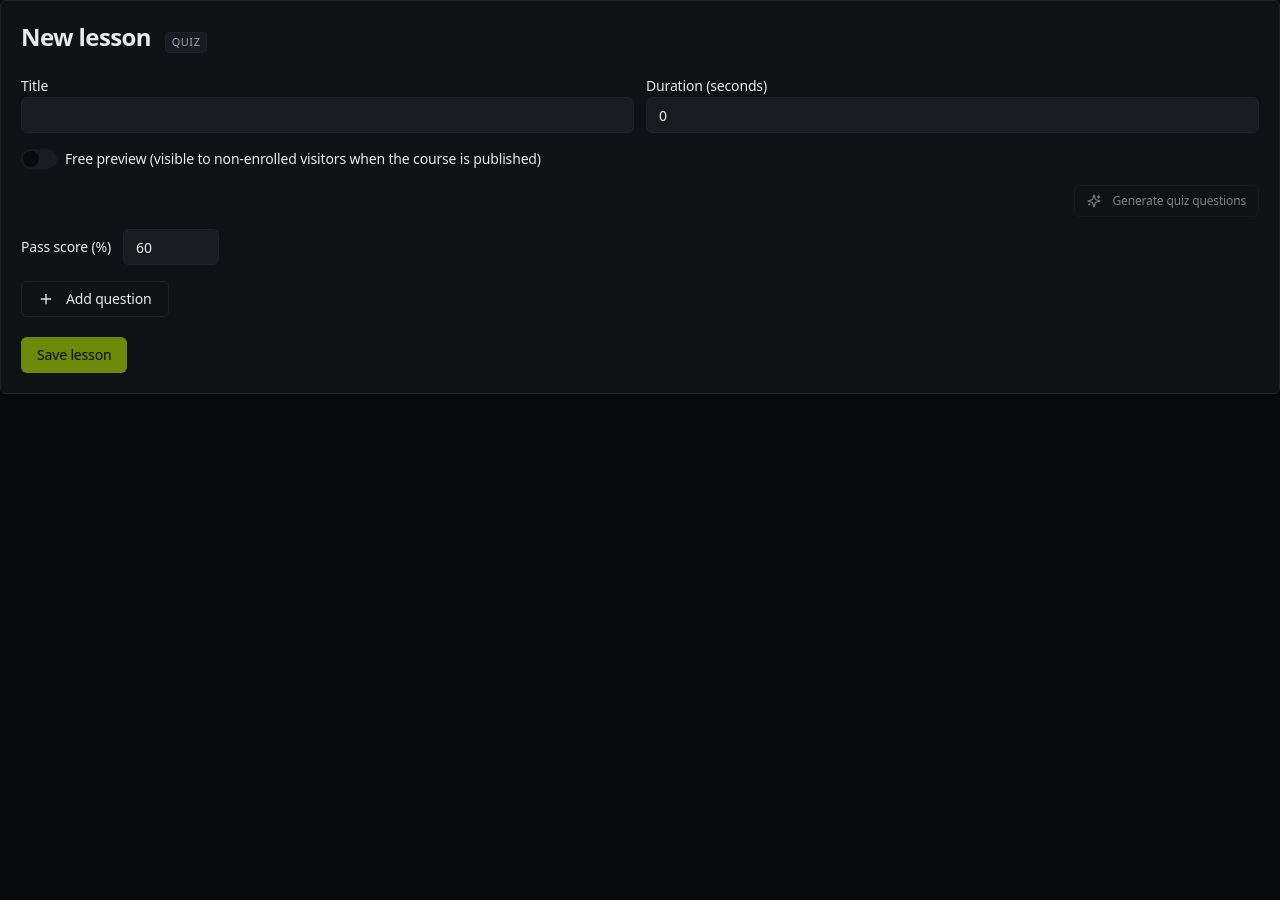
Test case: LessonEditor › the quiz variant lets the instructor add a question
The width and height of the screenshot is (1280, 900).
# No questions yet — Add question is the only quiz action.
Click the button "Add question" at (95, 299), box [21,281,168,317]
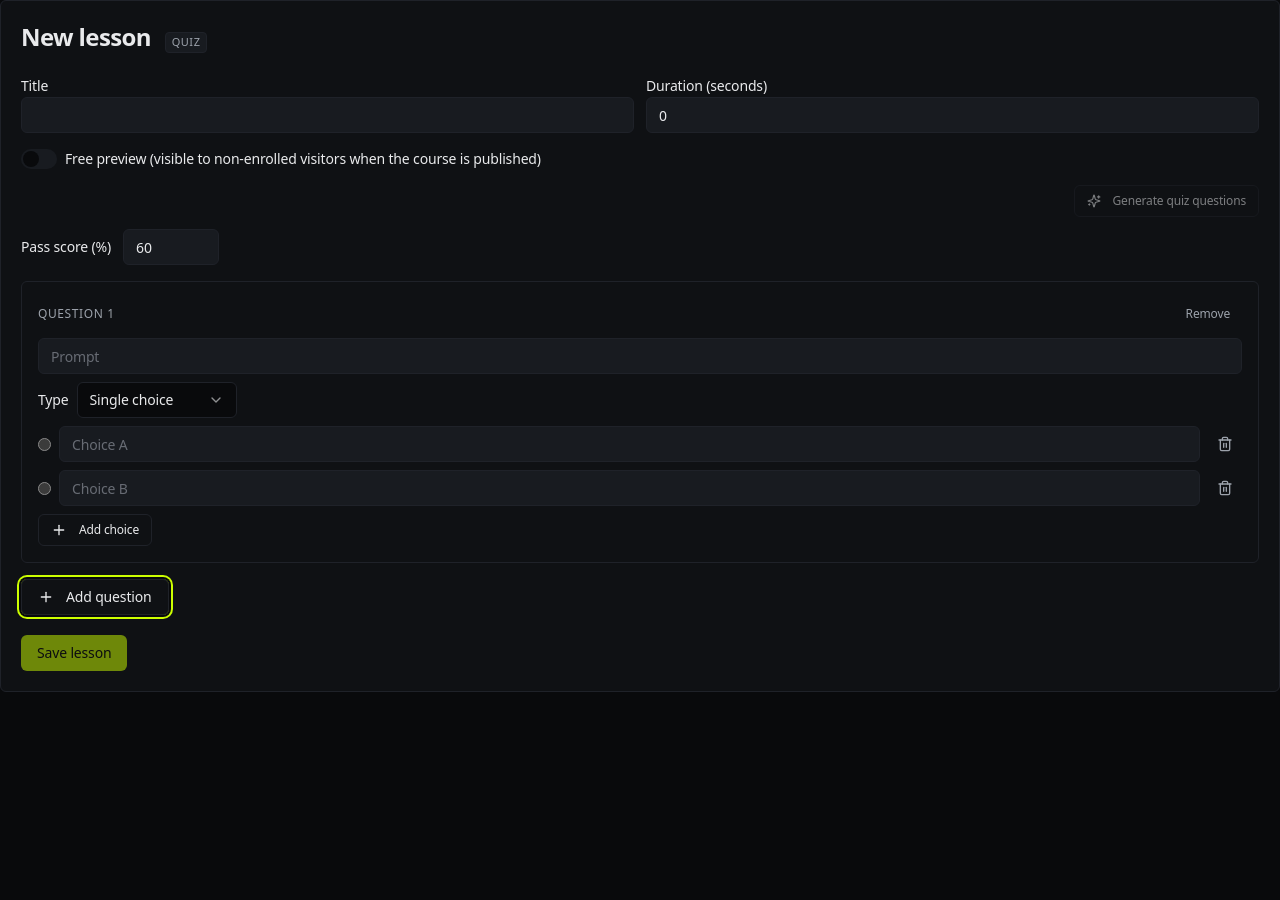
Result: the field with placeholder "Prompt" is shown at [38,338,1242,374]
